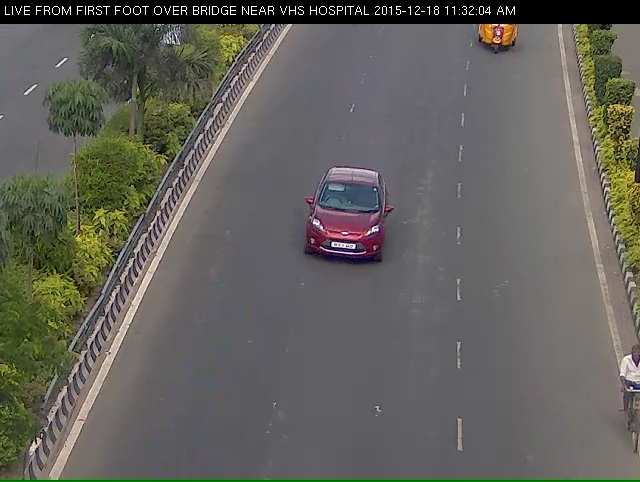Car: (293, 179, 398, 293), (477, 17, 519, 59)
